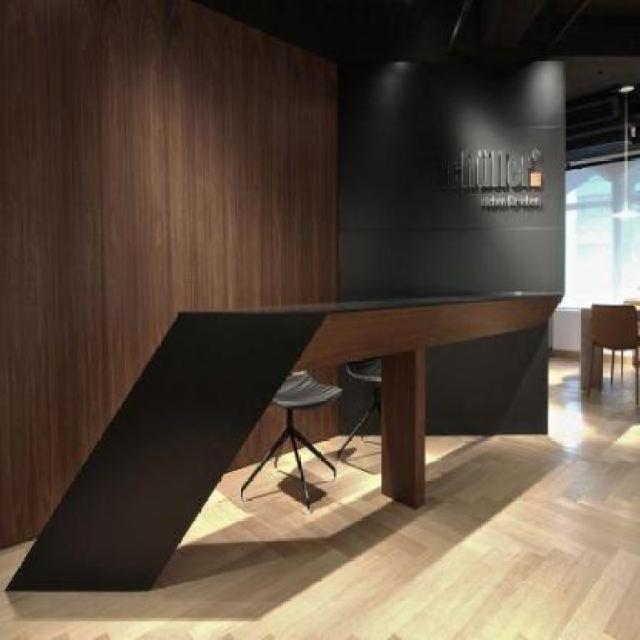frontdesk: (20, 286, 571, 602)
